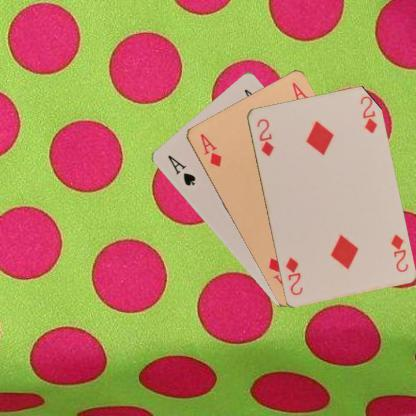2d: (388, 231, 409, 273), (254, 116, 275, 157)
Ad: (197, 130, 223, 168)
As: (164, 152, 197, 187)
